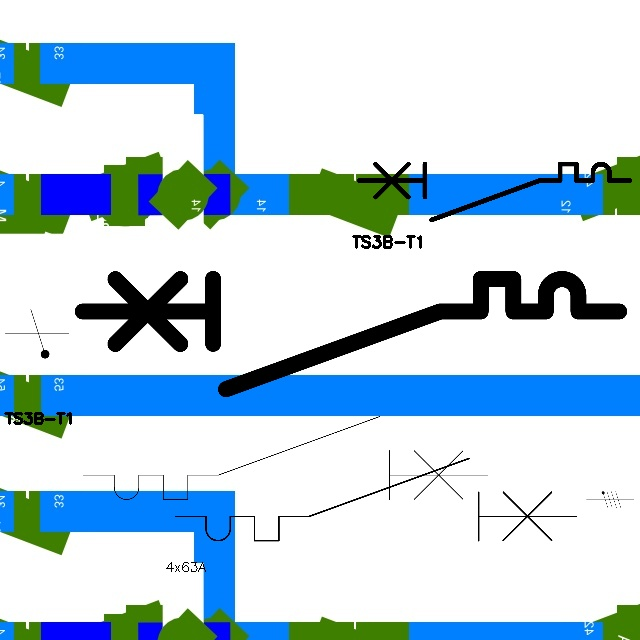interruptor_termomagnetico: (68, 265, 632, 403), (73, 406, 498, 510), (165, 448, 586, 551), (352, 157, 637, 226)
